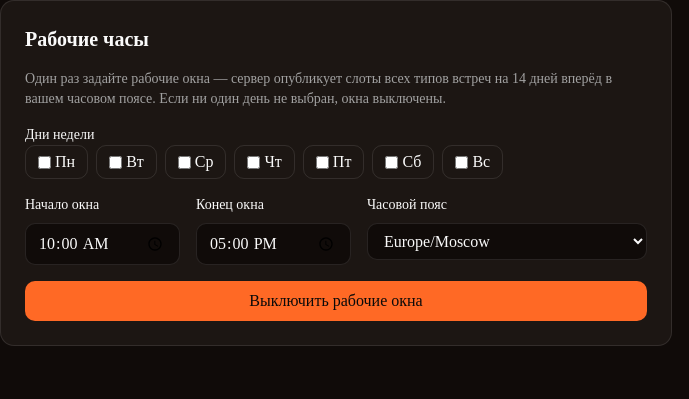
Test case: admin working hours form › shows a server rejection message on 400
What coordinates should you click on to do the following:
click the checkbox labelled "Пн"
I would click on:
 (44, 162)
Its box is left=38, top=156, right=51, bottom=168.
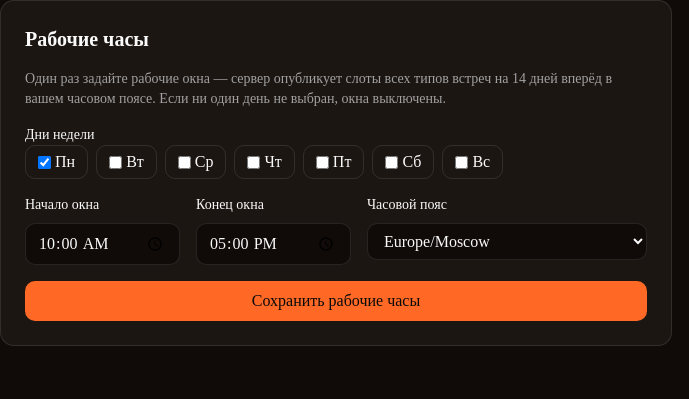
What coordinates should you click on to do the following:
click the button "Сохранить рабочие часы"
I would click on:
 (336, 301)
Its box is left=25, top=281, right=647, bottom=321.
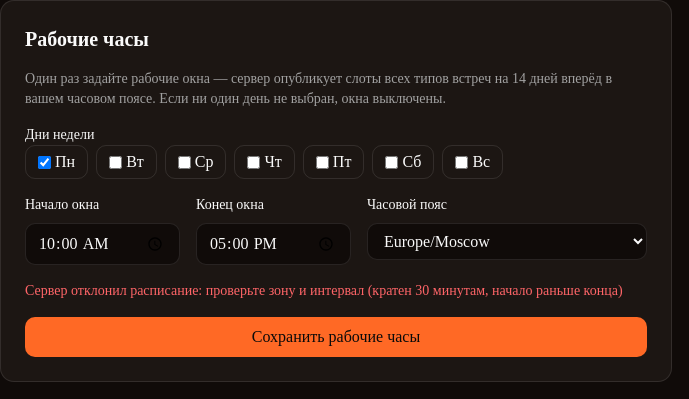
Check: the message is shown, box left=25, top=281, right=647, bottom=301
Check: the message shows "Сервер отклонил расписание", box left=25, top=283, right=623, bottom=298
